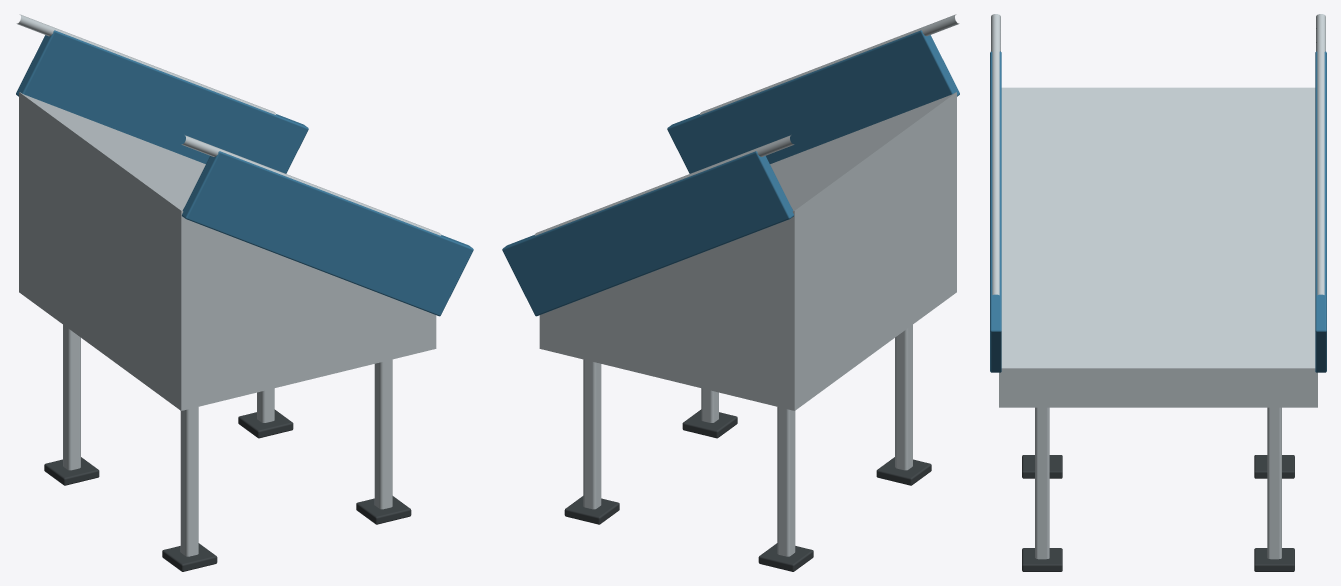
Rendered from recycling-centre-and-material-sorting-belt-transfer-ch-649697fe__31110.glb.
3 renders of one model, left to right at view 1: azimuth 30°, elevation 25°; view 2: azimuth 150°, elevation 25°; view 3: azimuth 270°, elevation 25°, orthographic.
Parts seen in each view (by area): view 1: belt-transfer-chute; view 2: belt-transfer-chute; view 3: belt-transfer-chute.
Part boxes in pixels (box(x1,y1,x2,y2)): belt-transfer-chute: box(16, 14, 473, 571); belt-transfer-chute: box(502, 14, 959, 571); belt-transfer-chute: box(990, 14, 1326, 571).
Bounding box in the file's own units: 1.14 × 1.68 × 1.16.
